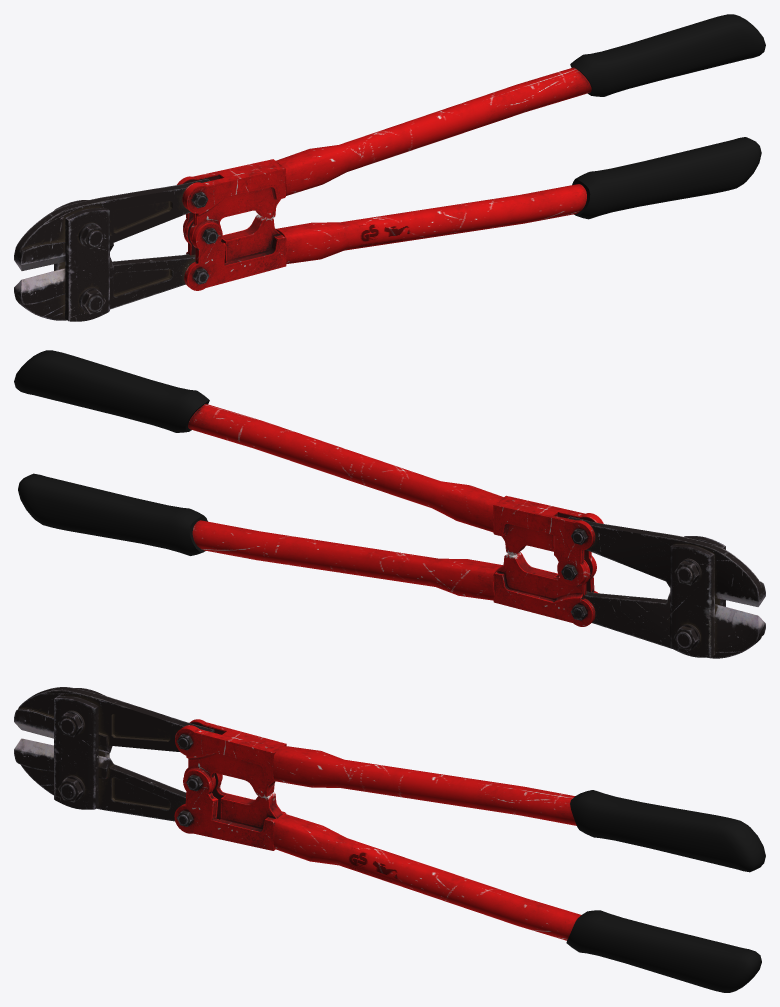
File: tool_-_boltcutter.glb
3 renders of one model, top to bottom at view 1: azimuth 30°, elevation 25°; view 2: azimuth 150°, elevation 25°; view 3: azimuth 330°, elevation 25°, orthographic.
Parts seen in each view (by area): view 1: Stange_Lowpoly, Stange2_Lowpoly, Handle_Lowpoly, Handle2_Lowpoly, CuttingPart_Lowpoly, CuttingPart2_Lowpoly, HingePart2_Lowpoly, HingePart_Lowpoly, Connection_Lowpoly; view 2: Stange_Lowpoly, Stange2_Lowpoly, Handle2_Lowpoly, Handle_Lowpoly, CuttingPart_Lowpoly, HingePart_Lowpoly, CuttingPart2_Lowpoly, HingePart2_Lowpoly, Connection2_Lowpoly; view 3: Stange2_Lowpoly, Stange_Lowpoly, Handle_Lowpoly, Handle2_Lowpoly, CuttingPart_Lowpoly, CuttingPart2_Lowpoly, HingePart2_Lowpoly, HingePart_Lowpoly, Connection_Lowpoly.
Boxes of the visible parts, box(x1,y1,x2,y2) form: Stange_Lowpoly: box(276, 67, 591, 195); Stange2_Lowpoly: box(276, 184, 586, 263); Handle_Lowpoly: box(570, 14, 765, 96); Handle2_Lowpoly: box(572, 137, 761, 219); CuttingPart_Lowpoly: box(14, 178, 210, 270); CuttingPart2_Lowpoly: box(14, 254, 195, 320); HingePart2_Lowpoly: box(183, 214, 286, 290); HingePart_Lowpoly: box(177, 159, 285, 242); Connection_Lowpoly: box(65, 208, 109, 321); Stange_Lowpoly: box(188, 404, 503, 532); Stange2_Lowpoly: box(192, 520, 502, 600); Handle2_Lowpoly: box(18, 473, 207, 555); Handle_Lowpoly: box(14, 350, 209, 432); CuttingPart_Lowpoly: box(567, 516, 765, 606); HingePart_Lowpoly: box(493, 495, 603, 585); CuttingPart2_Lowpoly: box(584, 591, 765, 658); HingePart2_Lowpoly: box(493, 552, 598, 626); Connection2_Lowpoly: box(670, 544, 714, 657); Stange2_Lowpoly: box(273, 814, 581, 940); Stange_Lowpoly: box(273, 746, 576, 825); Handle_Lowpoly: box(570, 790, 765, 872); Handle2_Lowpoly: box(566, 910, 761, 992); CuttingPart_Lowpoly: box(14, 687, 214, 753); CuttingPart2_Lowpoly: box(14, 738, 185, 821); HingePart2_Lowpoly: box(174, 767, 286, 850); HingePart_Lowpoly: box(175, 719, 286, 797); Connection_Lowpoly: box(54, 696, 98, 809).
Bounding box in the file's own units: 314 × 68.17 × 21.06.
1 material, 1 textured.
